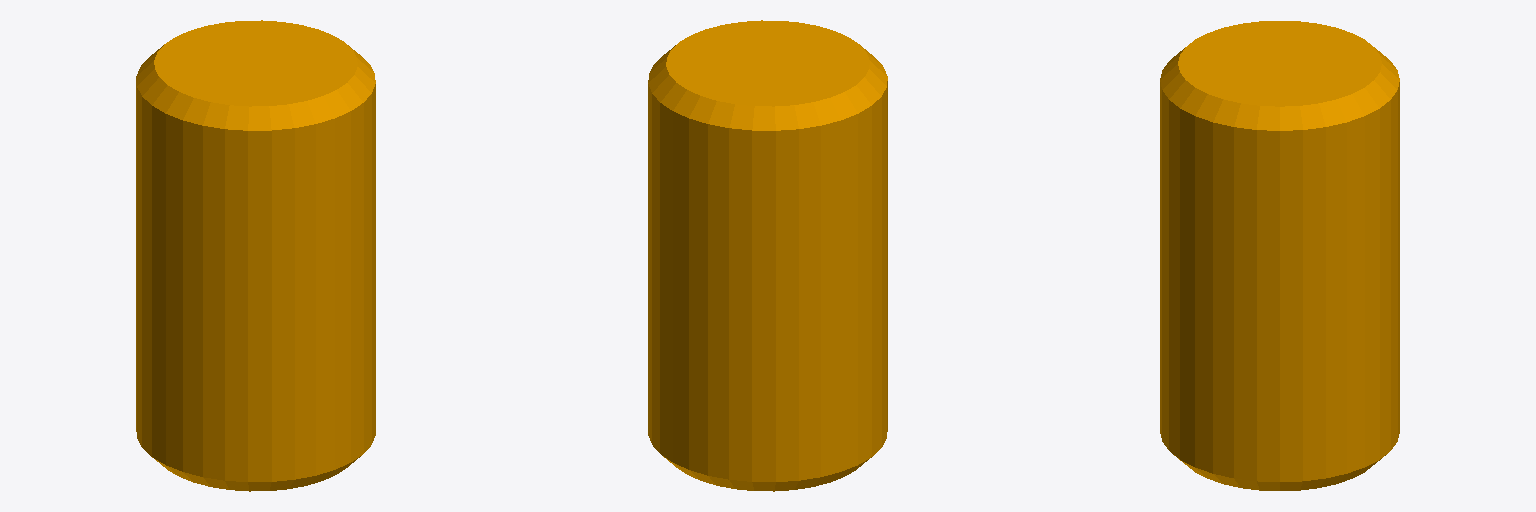
The robot description file, URDF, robot "coke_classic_model":
<robot name="coke_classic_model">
  <link name="coke_classic">
    <inertial>
      <mass value="0.350000" />
      <origin xyz="-0.000000 -0.000000 0.057500"/>
      <inertia ixx="0.000468" ixy="0.000000" ixz="0.000000" iyy="0.000468" iyz="0.000000" izz="0.000182" />
    </inertial>
    <visual>
      <geometry>
        <mesh filename="package://manipulation_objects/meshes/coke_classic.stl" />
      </geometry>
    </visual>
    <collision>
      <geometry>
        <mesh filename="package://manipulation_objects/meshes/coke_classic.stl" />
      </geometry>
    </collision>
  </link>
  <gazebo reference="coke_classic">
    <material>Gazebo/Grey</material>
  </gazebo>
</robot>

--- Render facts (derived) ---
3 views of the same robot in one strip: view 1: azimuth 30°, elevation 25°; view 2: azimuth 150°, elevation 25°; view 3: azimuth 270°, elevation 25° (orthographic).
Robot: coke_classic_model — 1 links, 0 joints (none); root link coke_classic; default pose: every joint at zero.
Links seen in each view (by area): view 1: coke_classic; view 2: coke_classic; view 3: coke_classic.
Boxes of the visible links, <box> form: coke_classic: <box>136,20,375,491</box>; coke_classic: <box>648,20,887,491</box>; coke_classic: <box>1160,21,1399,490</box>.
Bounding box of the posed robot: 0.065 × 0.065 × 0.115 m (x, y, z).
1 mesh visuals loaded from 1 distinct referenced files (1 binary STL).
